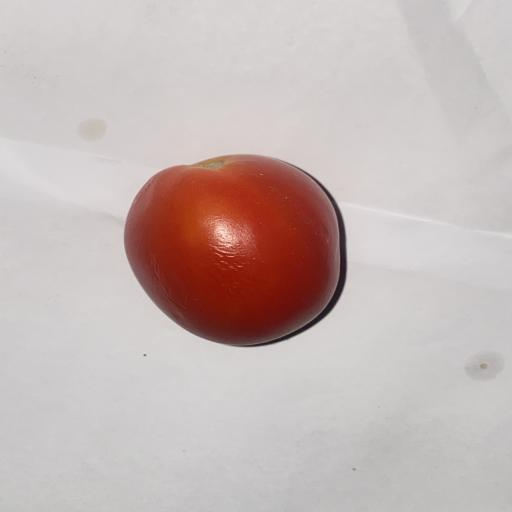overipe: (124, 155, 340, 345)
